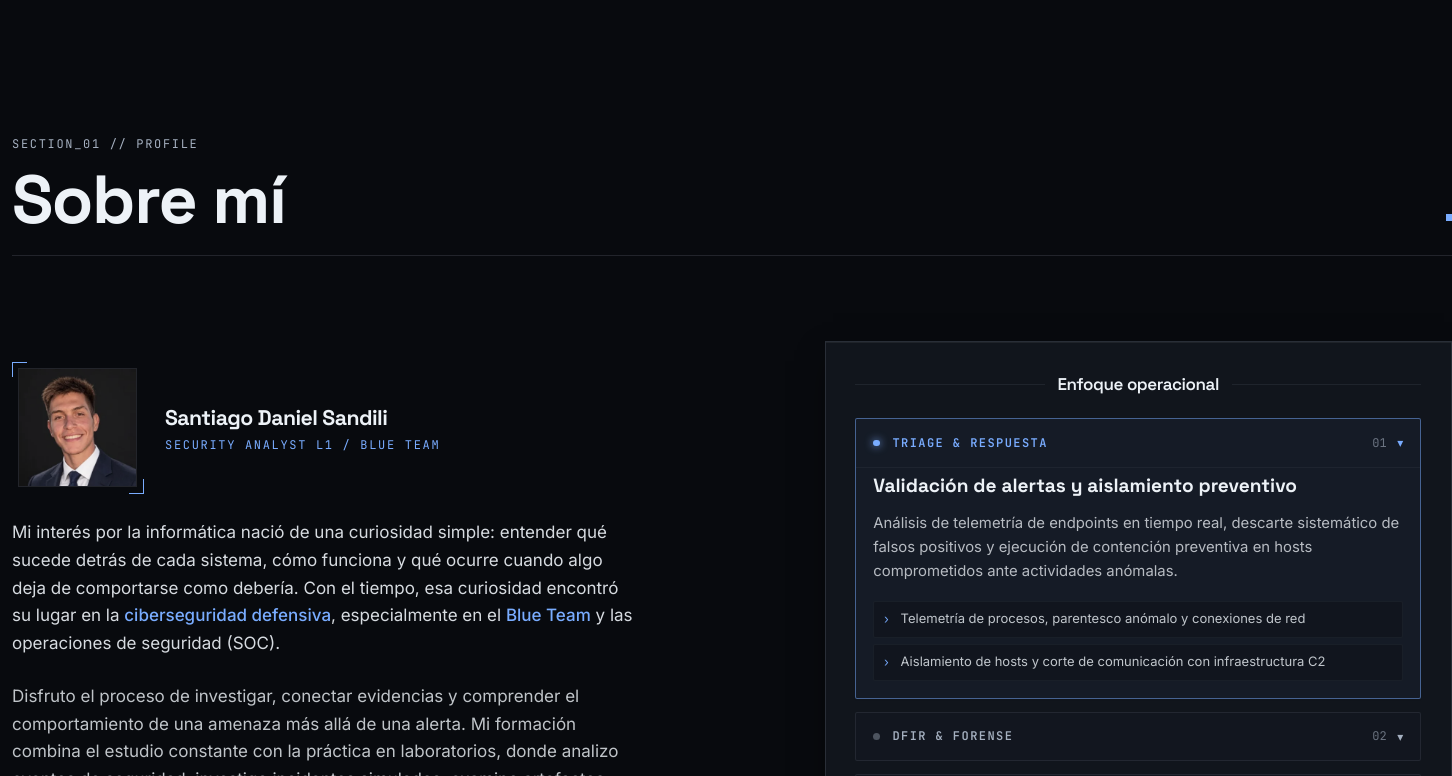
Test: About section - Profile Narrative & Tactical Dossier › switches to DFIR & FORENSE tab when clicked
The image size is (1452, 776).
Step 1. Click the button "DFIR & FORENSE 02 ▾" → (953, 736), box [856,713,1420,760]
(page scrolled)
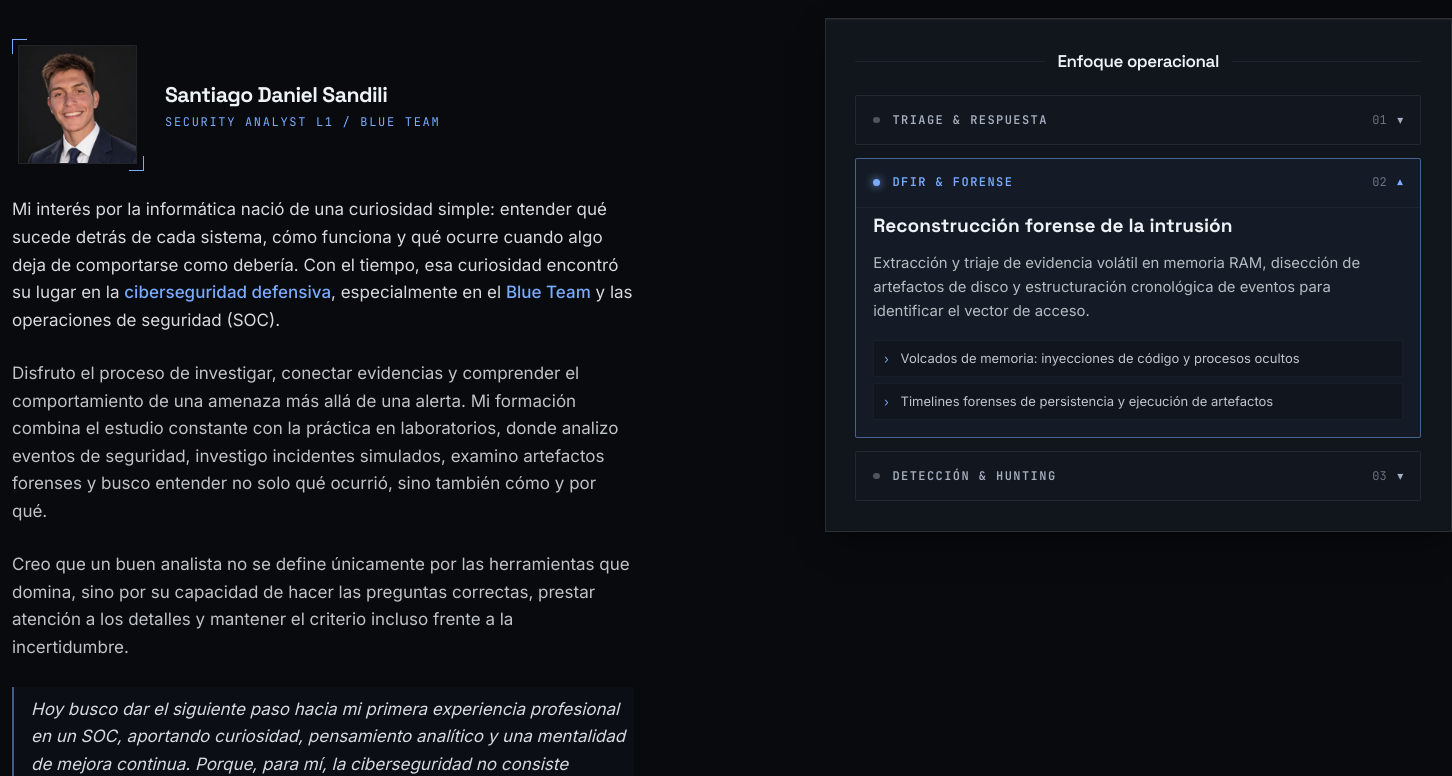
Expected: the heading "Reconstrucción forense de la intrusión" is shown, [873,213,1233,238]
Expected: the text "Volcados de memoria: inyecciones de código y procesos ocultos" is shown, [901,350,1300,368]
